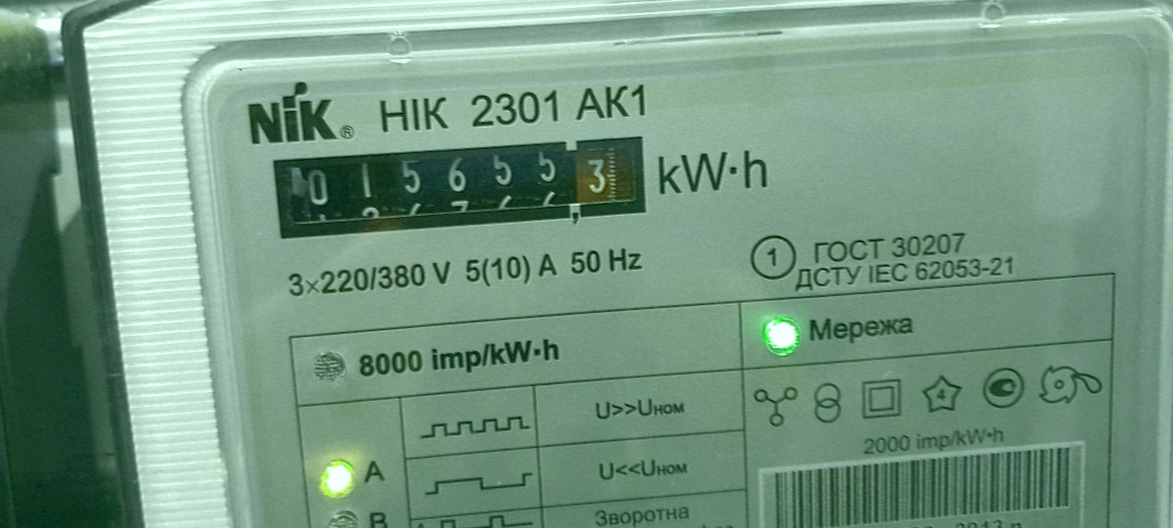0: (302, 163, 330, 206)
1: (354, 159, 375, 199)
3: (584, 155, 606, 192)
5: (396, 157, 423, 194), (489, 152, 514, 185), (536, 148, 557, 182)
6: (443, 154, 468, 192)
screen: (257, 114, 662, 254)
